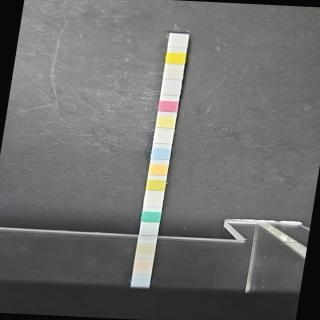mark: (144, 195, 162, 208), (146, 180, 164, 192), (148, 164, 166, 176), (152, 148, 170, 160), (154, 132, 172, 144), (157, 116, 175, 128), (160, 100, 178, 112), (162, 85, 180, 97), (165, 69, 182, 81), (167, 53, 184, 65), (169, 38, 187, 48), (142, 212, 158, 222)
